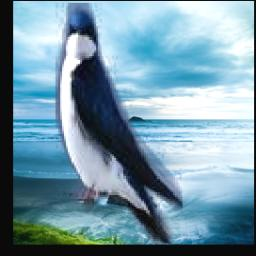Swallow: (56, 4, 184, 245)
